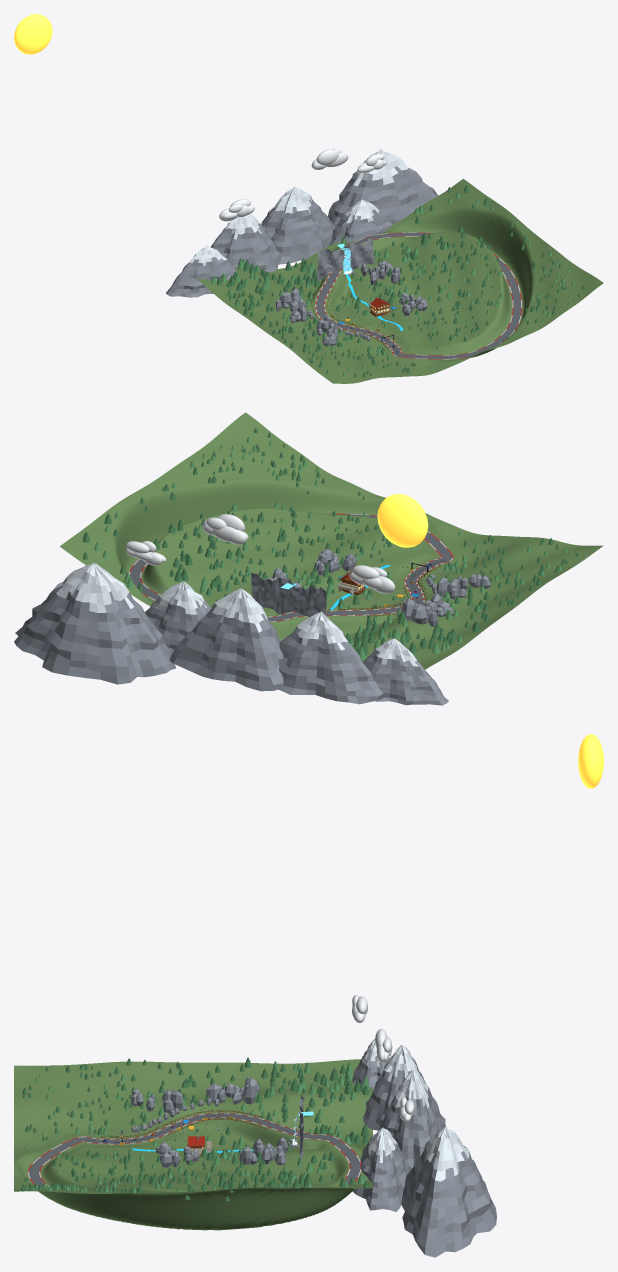
The model's file is blockkart_alpine_golden_scene_v11.glb.
The picture shows the model from 3 angles, top to bottom: view 1: azimuth 30°, elevation 25°; view 2: azimuth 150°, elevation 25°; view 3: azimuth 270°, elevation 25°; orthographic projection. The views are drawn at different scales.
Visible parts, largest first — view 1: Golden valley terrain, Layered alpine peak 5, Layered alpine peak 3, Golden S curve road, Layered alpine peak 2, Layered alpine peak 1, Layered alpine peak 4, Waterfall cliff wall, Low geometry alpine sun; view 2: Golden valley terrain, Layered alpine peak 5, Layered alpine peak 3, Layered alpine peak 2, Layered alpine peak 1, Layered alpine peak 4, Golden S curve road, Waterfall cliff wall, Low geometry alpine sun; view 3: Golden valley terrain, Layered alpine peak 5, Layered alpine peak 3, Golden S curve road, Layered alpine peak 4, Layered alpine peak 2, Low geometry alpine sun, Layered alpine peak 1.
Boxes of the visible parts, x1,y1,x2,y2 form: Golden valley terrain: (197, 179, 603, 383); Layered alpine peak 5: (328, 149, 438, 226); Layered alpine peak 3: (261, 187, 334, 264); Golden S curve road: (314, 232, 522, 359); Layered alpine peak 2: (211, 214, 280, 272); Layered alpine peak 1: (166, 245, 236, 297); Layered alpine peak 4: (329, 199, 392, 245); Waterfall cliff wall: (317, 238, 374, 280); Low geometry alpine sun: (14, 14, 52, 54); Golden valley terrain: (60, 412, 603, 669); Layered alpine peak 5: (14, 563, 175, 684); Layered alpine peak 3: (169, 588, 283, 691); Layered alpine peak 2: (278, 611, 383, 704); Layered alpine peak 1: (362, 638, 448, 705); Layered alpine peak 4: (145, 581, 210, 654); Golden S curve road: (128, 513, 453, 622); Waterfall cliff wall: (251, 573, 326, 616); Low geometry alpine sun: (377, 494, 428, 547); Golden valley terrain: (14, 1059, 372, 1230); Layered alpine peak 5: (401, 1126, 496, 1257); Layered alpine peak 3: (378, 1070, 445, 1170); Golden S curve road: (27, 1112, 361, 1187); Layered alpine peak 4: (353, 1127, 409, 1211); Layered alpine peak 2: (363, 1045, 425, 1130); Low geometry alpine sun: (578, 734, 603, 788); Layered alpine peak 1: (352, 1039, 391, 1090).
Size of what is drawn, in the model's own units: 681 by 412 by 731.
